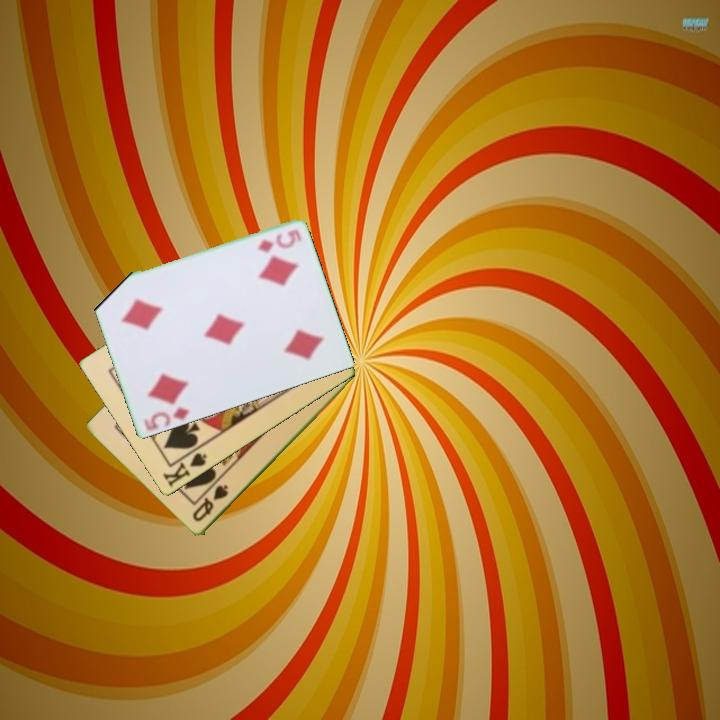5d: (142, 403, 193, 434), (254, 226, 304, 255)
Ks: (159, 443, 210, 491)
Qs: (189, 481, 231, 525)
